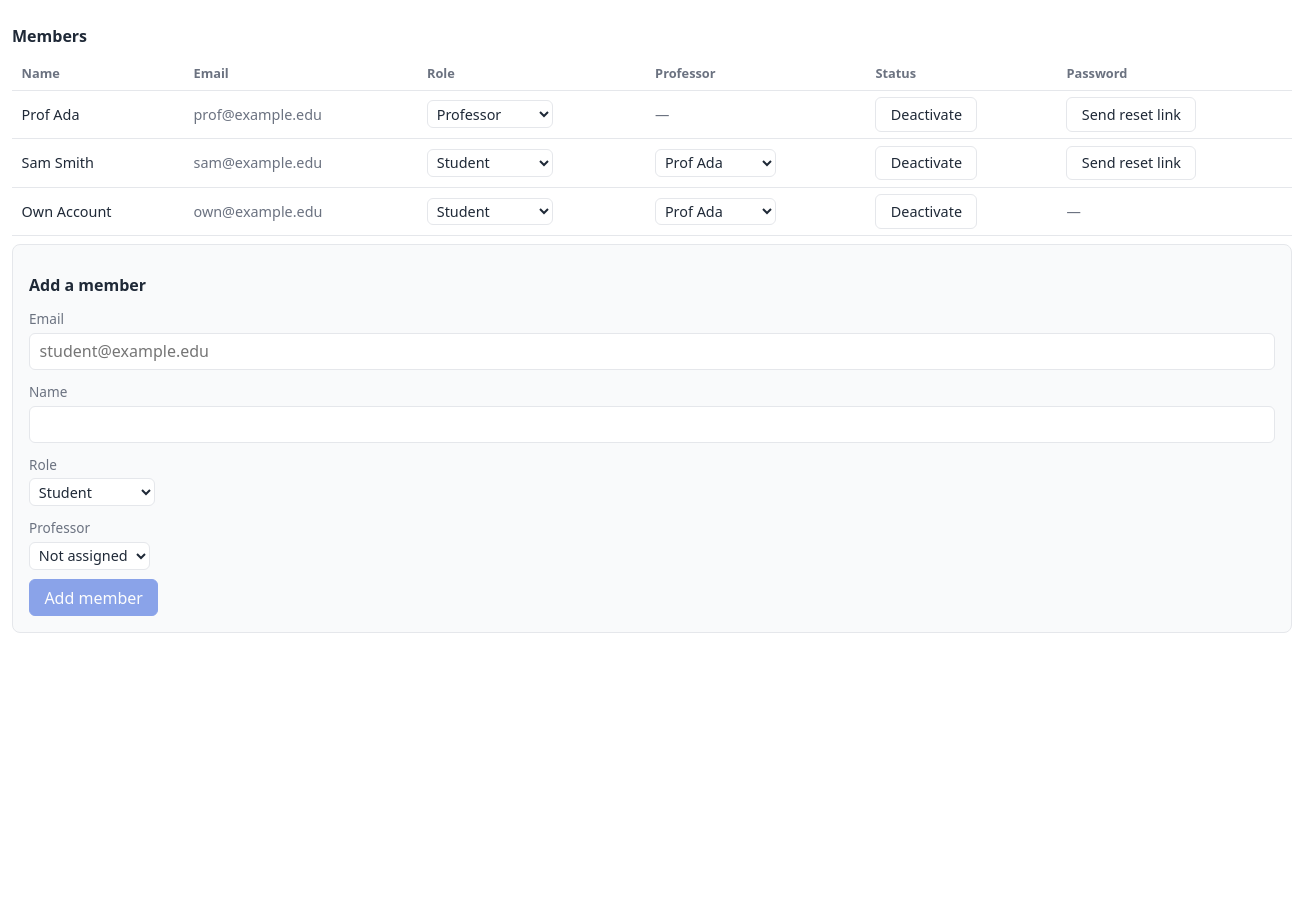
Scenario: /org/:id — the members table › sends a reset link to a PROVISIONED member, and offers none to their own account
Expected: the text "Own Account" is shown, [12,187,184,236]
Click the button "Send reset link" in the row of "Sam Smith".
click(1131, 163)  # box [1066,146,1196,180]
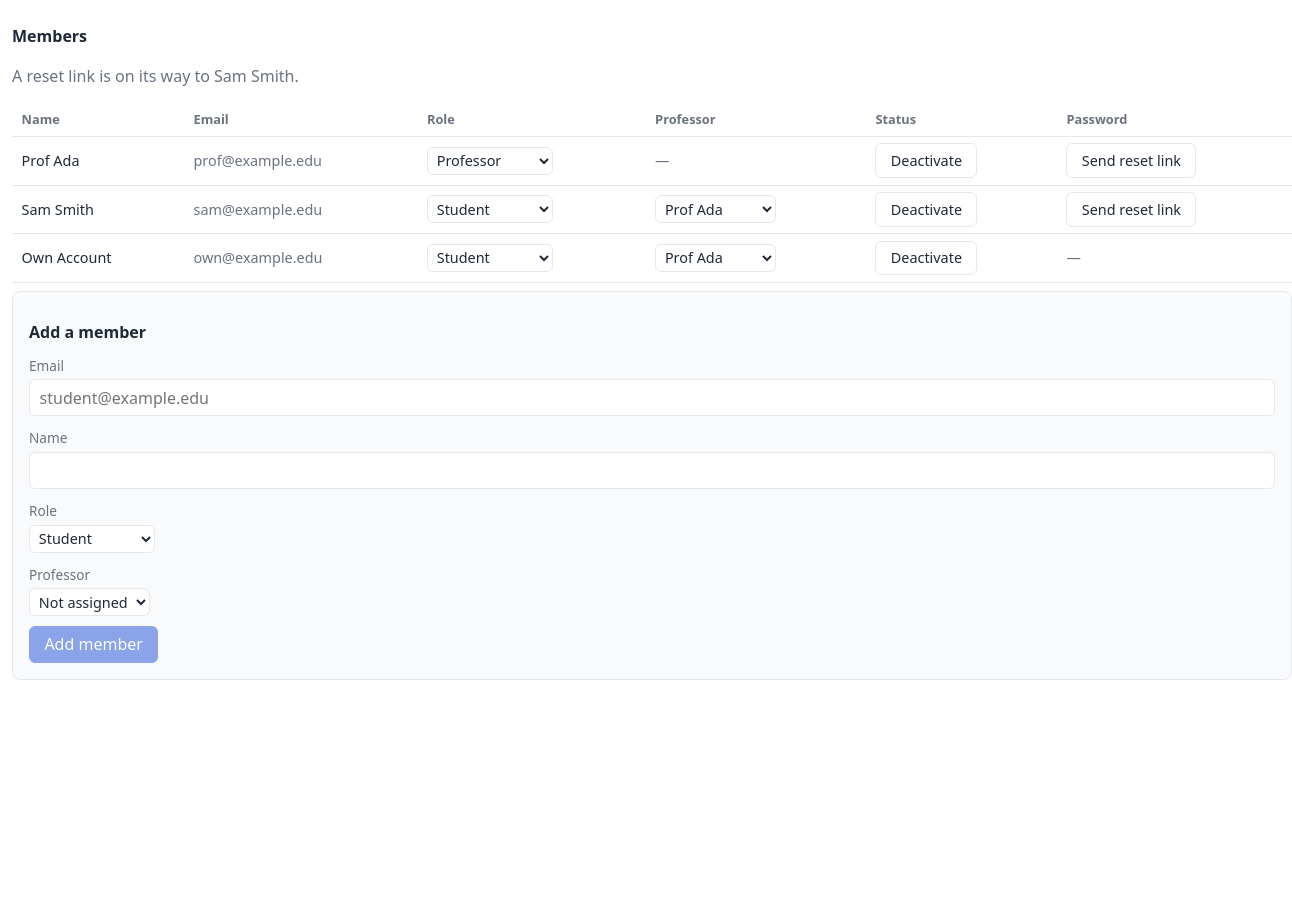
Now the text "A reset link is on its way to Sam Smith." is shown, box [12,65,299,87]
